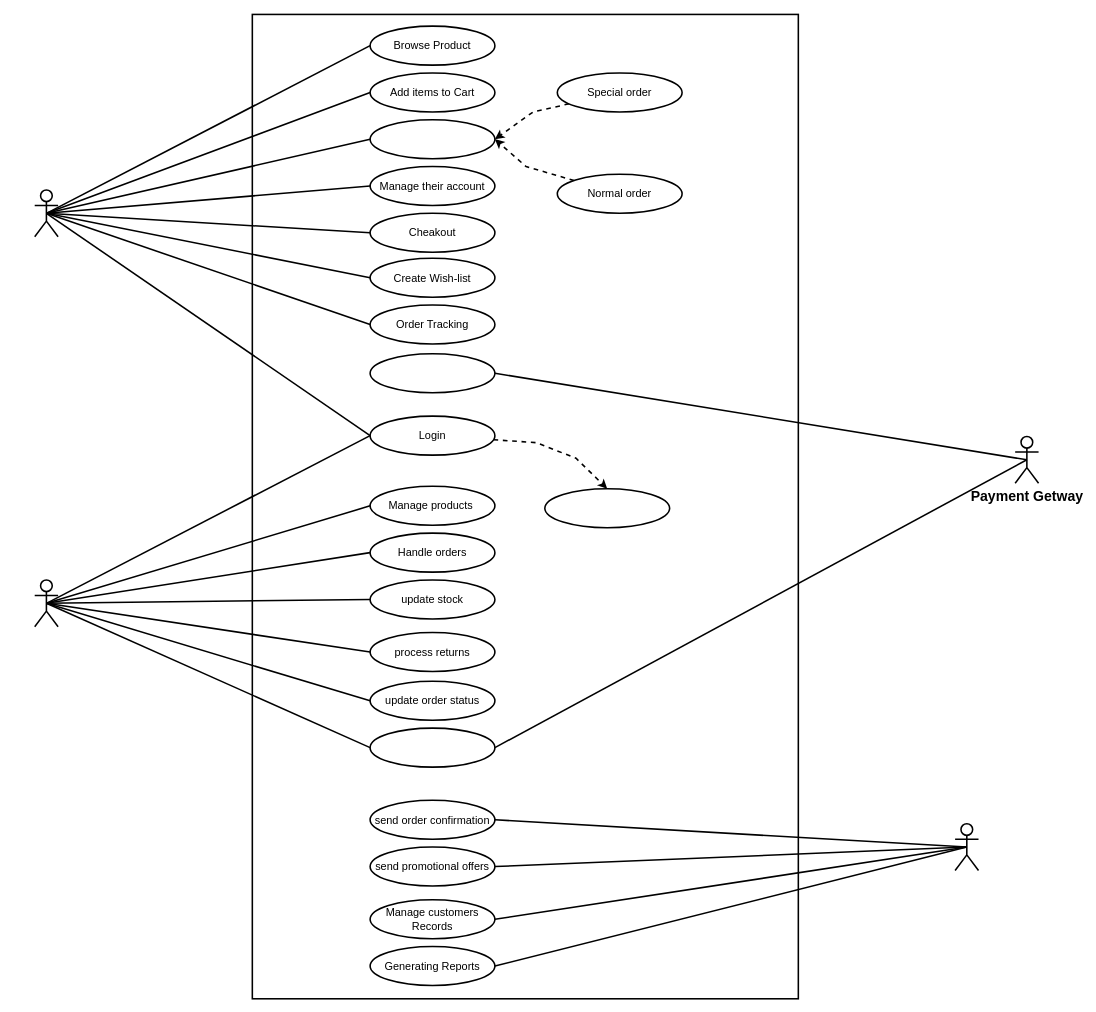
Some shapes in this 1096 by 1012 pixel diagram are drawn without their labels. Here are the shapes that lost their labels. From the top down, the box of each, then its label:
(369, 119, 495, 159): Place orders
(34, 189, 58, 237): Customer
(369, 353, 495, 393): Payments
(544, 488, 670, 528): Registeration
(34, 579, 58, 627): Staff
(369, 727, 495, 768): Handle paymanets
(954, 823, 979, 871): Admin
